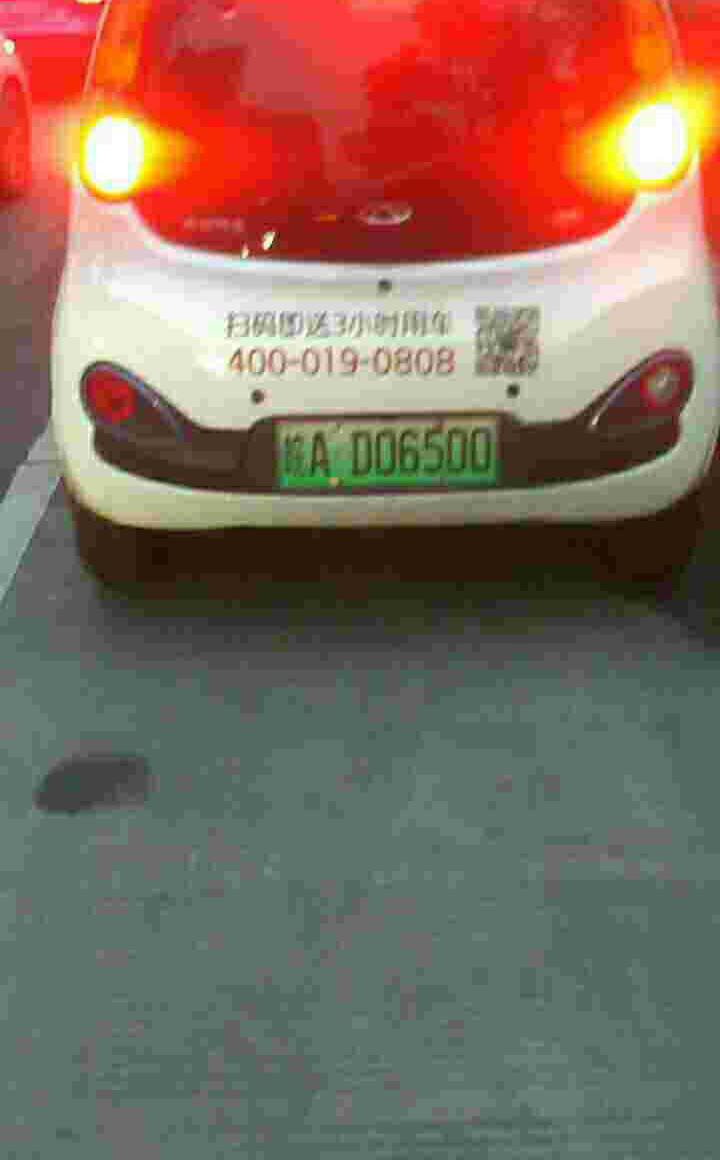car_id: (276, 416, 502, 485)
